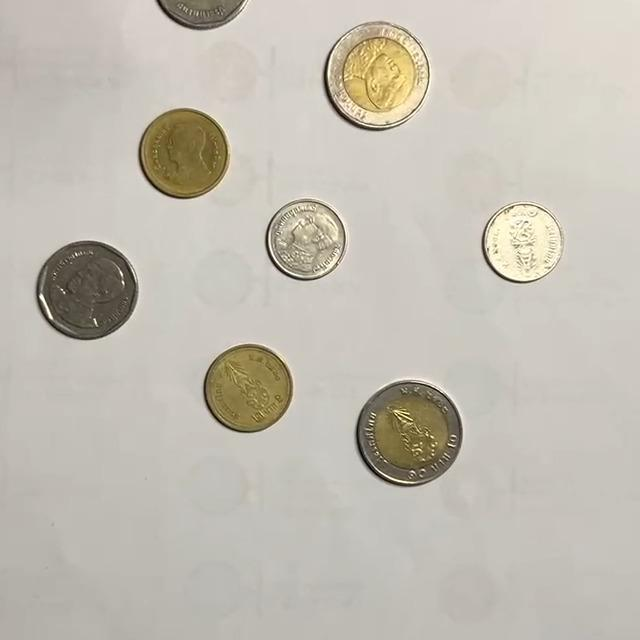1-baht: (482, 201, 567, 283), (265, 199, 347, 281)
10-baht: (325, 21, 433, 129), (356, 380, 464, 485)
2-baht: (139, 107, 231, 198), (204, 344, 294, 432)
5-baht: (36, 239, 140, 339), (151, 0, 254, 30)
